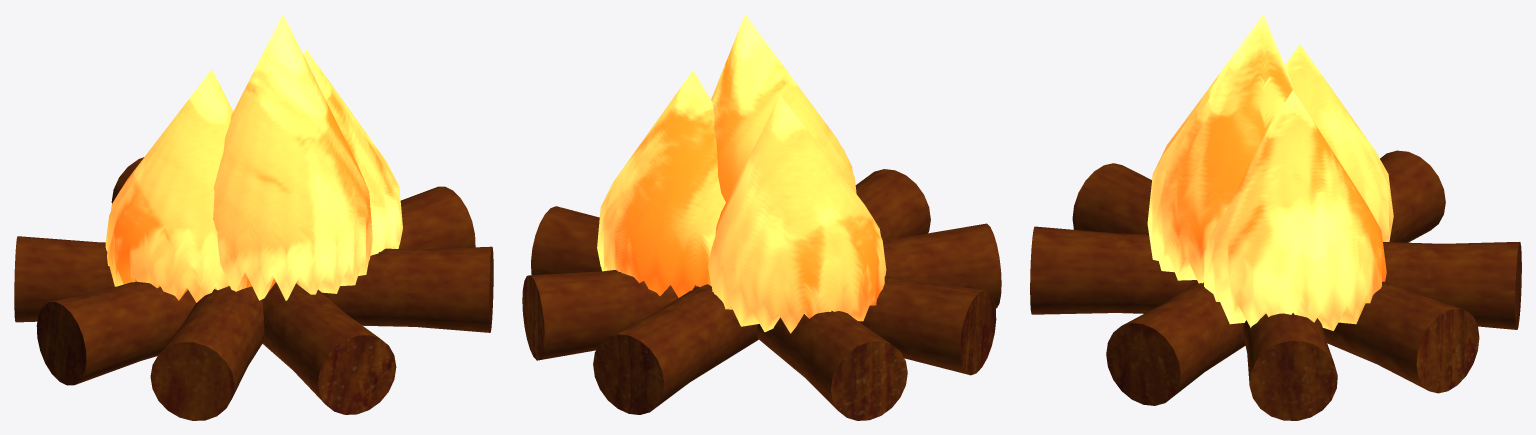
File: cozy_campfire.glb
3 views of the same model, side by side, from view 1: azimuth 30°, elevation 25°; view 2: azimuth 150°, elevation 25°; view 3: azimuth 270°, elevation 25° (orthographic). The views are drawn at different scales.
Visible parts, largest first — view 1: polySurface7; view 2: polySurface7; view 3: polySurface7.
Boxes of the visible parts, x1,y1,x2,y2 form: polySurface7: (14, 14, 493, 420); polySurface7: (522, 14, 1001, 420); polySurface7: (1030, 14, 1521, 420).
Bounding box in the file's own units: 0.0362 × 0.0257 × 0.0362.
Materials: 1 (1 with a texture image).
